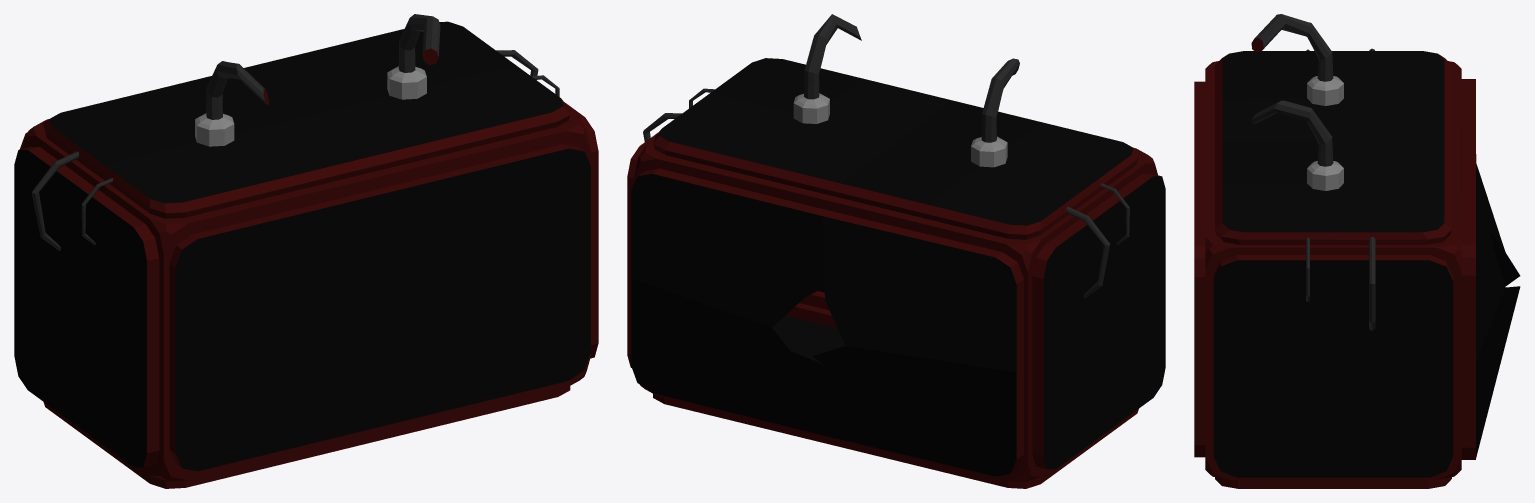
The model's file is Burned_Battery 1.fbx.
3 views of the same model, side by side, from view 1: azimuth 30°, elevation 25°; view 2: azimuth 150°, elevation 25°; view 3: azimuth 270°, elevation 25° (orthographic). The views are drawn at different scales.
Parts seen in each view (by area): view 1: Baterry_Burned; view 2: Baterry_Burned; view 3: Baterry_Burned.
Boxes of the visible parts, x1,y1,x2,y2 form: Baterry_Burned: [14, 14, 598, 488]; Baterry_Burned: [627, 14, 1165, 488]; Baterry_Burned: [1194, 14, 1520, 488].
Size of the model in its own units: 206 by 127 by 146.
